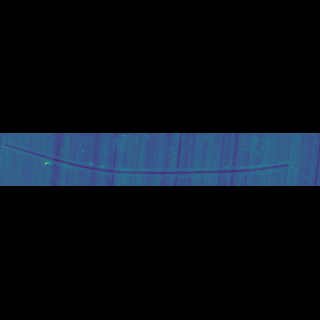Loch: (2, 156, 313, 162)
